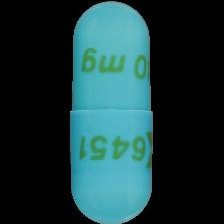0093-6451: (0, 0, 224, 224)
